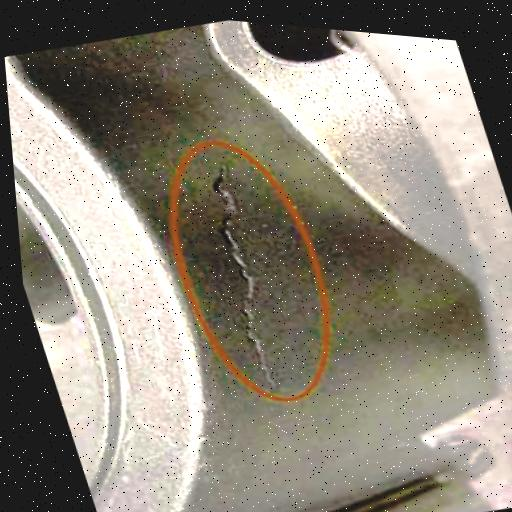crack: (181, 152, 307, 406)
